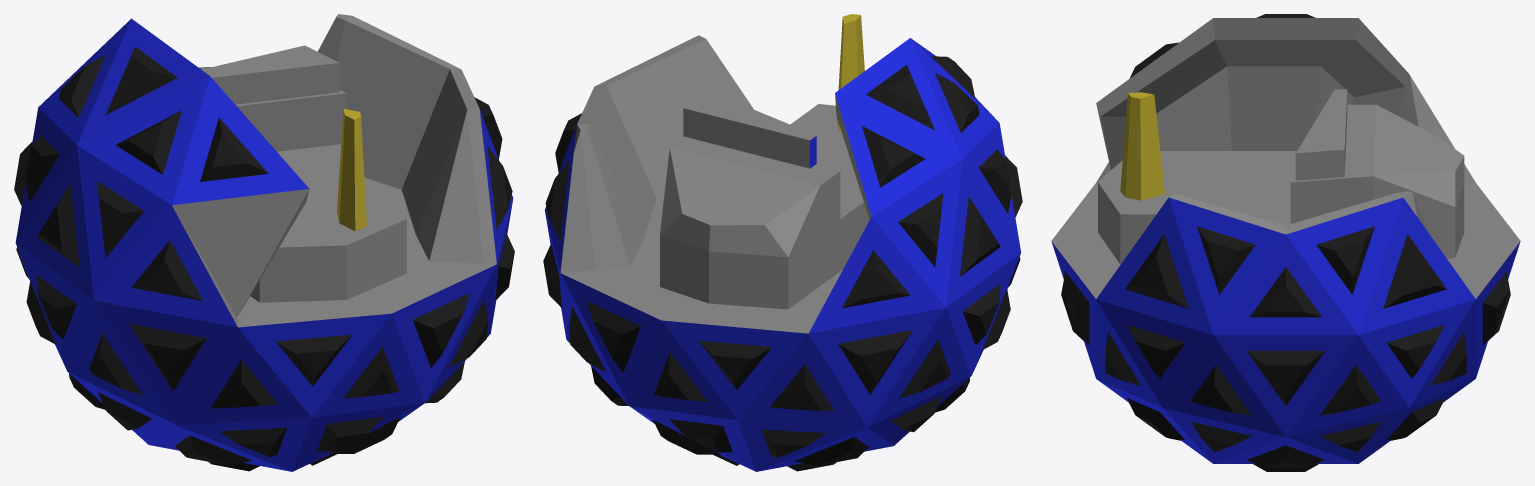
Rendered from Generador de escudo Roto.fbx.
3 views of the same model, side by side, from view 1: azimuth 30°, elevation 25°; view 2: azimuth 150°, elevation 25°; view 3: azimuth 270°, elevation 25° (orthographic). The views are drawn at different scales.
Parts seen in each view (by area): view 1: Icosphere.001, Icosphere.003, Icosphere.002, Icosphere; view 2: Icosphere.003, Icosphere.001, Icosphere.002, Icosphere; view 3: Icosphere.003, Icosphere.001, Icosphere.002, Icosphere.
Part boxes in pixels (x1,y1,x2,y2): Icosphere.001: (15, 18, 513, 471); Icosphere.003: (172, 14, 496, 327); Icosphere.002: (14, 46, 514, 471); Icosphere: (337, 108, 366, 231); Icosphere.003: (560, 35, 871, 333); Icosphere.001: (545, 38, 1021, 471); Icosphere.002: (543, 56, 1022, 471); Icosphere: (837, 14, 864, 131); Icosphere.003: (1051, 18, 1520, 298); Icosphere.001: (1051, 197, 1520, 463); Icosphere.002: (1061, 14, 1510, 471); Icosphere: (1120, 92, 1164, 200).
Bounding box in the file's own units: 196 × 185 × 200.
